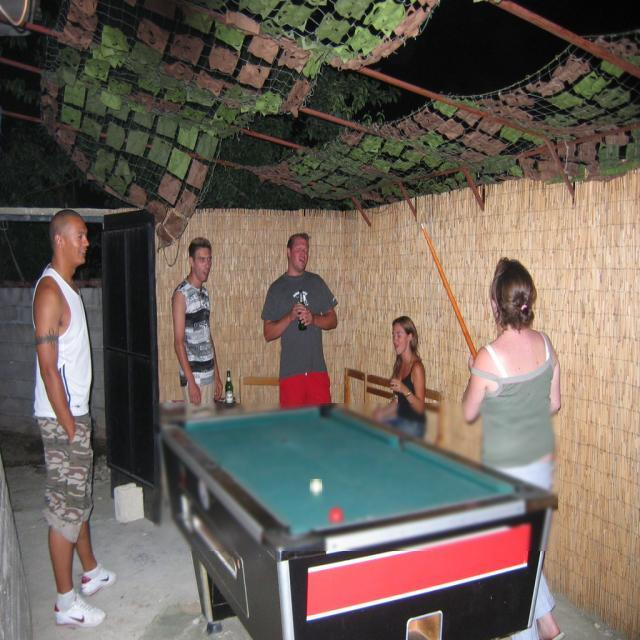Ball: (310, 480, 322, 496)
Billiard table: (154, 403, 558, 551)
